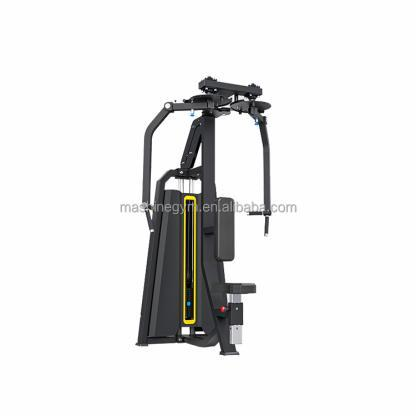chest fly machine: (113, 68, 288, 368)
